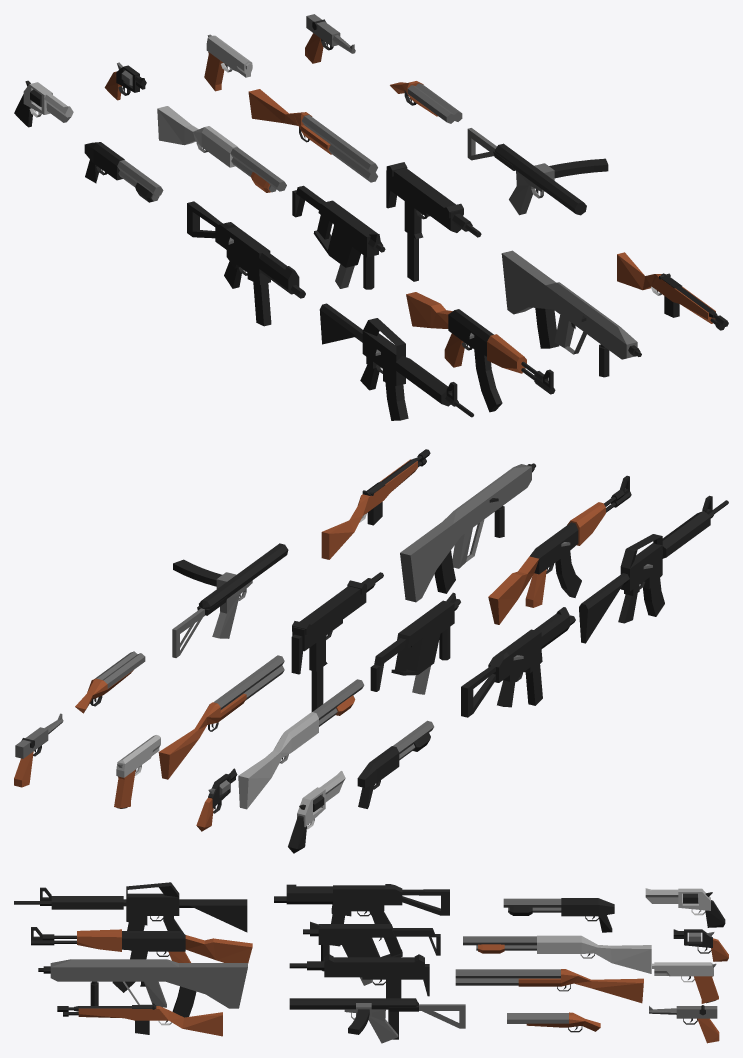
File: Guns.obj
3 renders of one model, top to bottom at view 1: azimuth 30°, elevation 25°; view 2: azimuth 150°, elevation 25°; view 3: azimuth 270°, elevation 25°, orthographic. The views are drawn at different scales.
Visible parts, largest first — view 1: AUG_Body, M4_Body, AK_Body, UMP_Body, Vector_Body, UZI_Body, Sterling_Body, TacticalPump_Body, M14_Body, CombatPump_Body, LongGun_Barrels, Python_Body (+10 smaller); view 2: AUG_Body, M4_Body, AK_Body, UMP_Body, Vector_Body, Sterling_Body, UZI_Body, TacticalPump_Body, M14_Body, CombatPump_Body, LongGun_Body, Python_Body (+7 smaller); view 3: AUG_Body, M4_Body, AK_Body, UMP_Body, TacticalPump_Body, Vector_Body, UZI_Body, Sterling_Body, M14_Body, CombatPump_Body, LongGun_Barrels, LongGun_Body (+10 smaller).
Part boxes in pixels (x1=…): AUG_Body: x1=501, y1=250, x2=641, y2=377; M4_Body: x1=319, y1=303, x2=473, y2=417; AK_Body: x1=406, y1=292, x2=555, y2=394; UMP_Body: x1=187, y1=201, x2=305, y2=298; Vector_Body: x1=292, y1=185, x2=385, y2=289; UZI_Body: x1=386, y1=168, x2=481, y2=239; Sterling_Body: x1=467, y1=128, x2=586, y2=215; TacticalPump_Body: x1=157, y1=106, x2=286, y2=192; M14_Body: x1=617, y1=252, x2=728, y2=330; CombatPump_Body: x1=84, y1=142, x2=163, y2=200; LongGun_Barrels: x1=302, y1=115, x2=377, y2=182; Python_Body: x1=14, y1=82, x2=73, y2=127; AUG_Body: x1=400, y1=463, x2=535, y2=602; M4_Body: x1=579, y1=495, x2=728, y2=643; AK_Body: x1=488, y1=475, x2=631, y2=624; UMP_Body: x1=461, y1=607, x2=575, y2=717; Vector_Body: x1=370, y1=592, x2=460, y2=691; Sterling_Body: x1=172, y1=543, x2=288, y2=657; UZI_Body: x1=291, y1=572, x2=383, y2=674; TacticalPump_Body: x1=238, y1=679, x2=364, y2=809; M14_Body: x1=321, y1=449, x2=430, y2=559; CombatPump_Body: x1=357, y1=720, x2=434, y2=808; LongGun_Body: x1=158, y1=702, x2=226, y2=779; Python_Body: x1=288, y1=771, x2=345, y2=853; AUG_Body: x1=38, y1=959, x2=247, y2=1008; M4_Body: x1=14, y1=882, x2=247, y2=933; AK_Body: x1=31, y1=927, x2=252, y2=963; UMP_Body: x1=274, y1=884, x2=449, y2=923; TacticalPump_Body: x1=463, y1=935, x2=651, y2=973; Vector_Body: x1=303, y1=921, x2=440, y2=971; UZI_Body: x1=289, y1=954, x2=429, y2=998; Sterling_Body: x1=289, y1=998, x2=465, y2=1043; M14_Body: x1=57, y1=1006, x2=222, y2=1036; CombatPump_Body: x1=503, y1=898, x2=614, y2=932; LongGun_Barrels: x1=455, y1=969, x2=560, y2=986; LongGun_Body: x1=551, y1=969, x2=643, y2=1003.
Size of the model in its own units: 1.01 by 0.2807 by 2.15.
